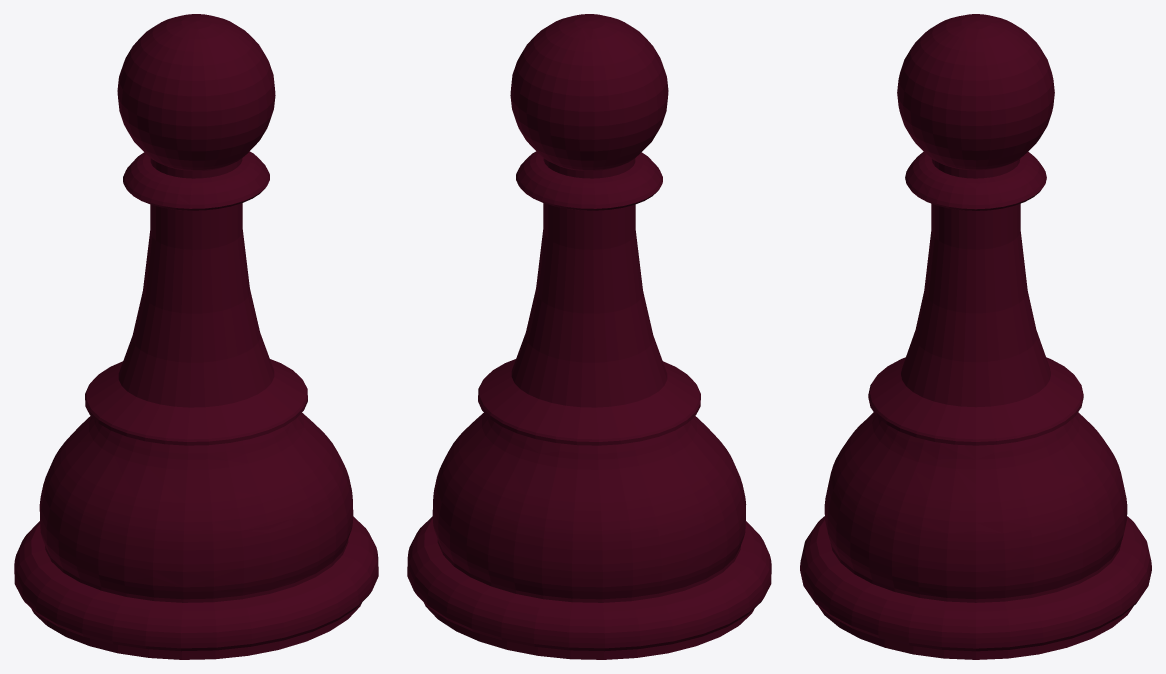
Rendered from gercek3_p_b.glb.
The picture shows the model from 3 angles, left to right: view 1: azimuth 30°, elevation 25°; view 2: azimuth 150°, elevation 25°; view 3: azimuth 270°, elevation 25°; orthographic projection.
Visible parts, largest first — view 1: p_b; view 2: p_b; view 3: p_b.
Boxes of the visible parts, bbox=[...] form: p_b: bbox=[14, 14, 378, 659]; p_b: bbox=[407, 14, 771, 659]; p_b: bbox=[800, 14, 1151, 659].
Bounding box in the file's own units: 0.5306 × 0.9 × 0.5069.
